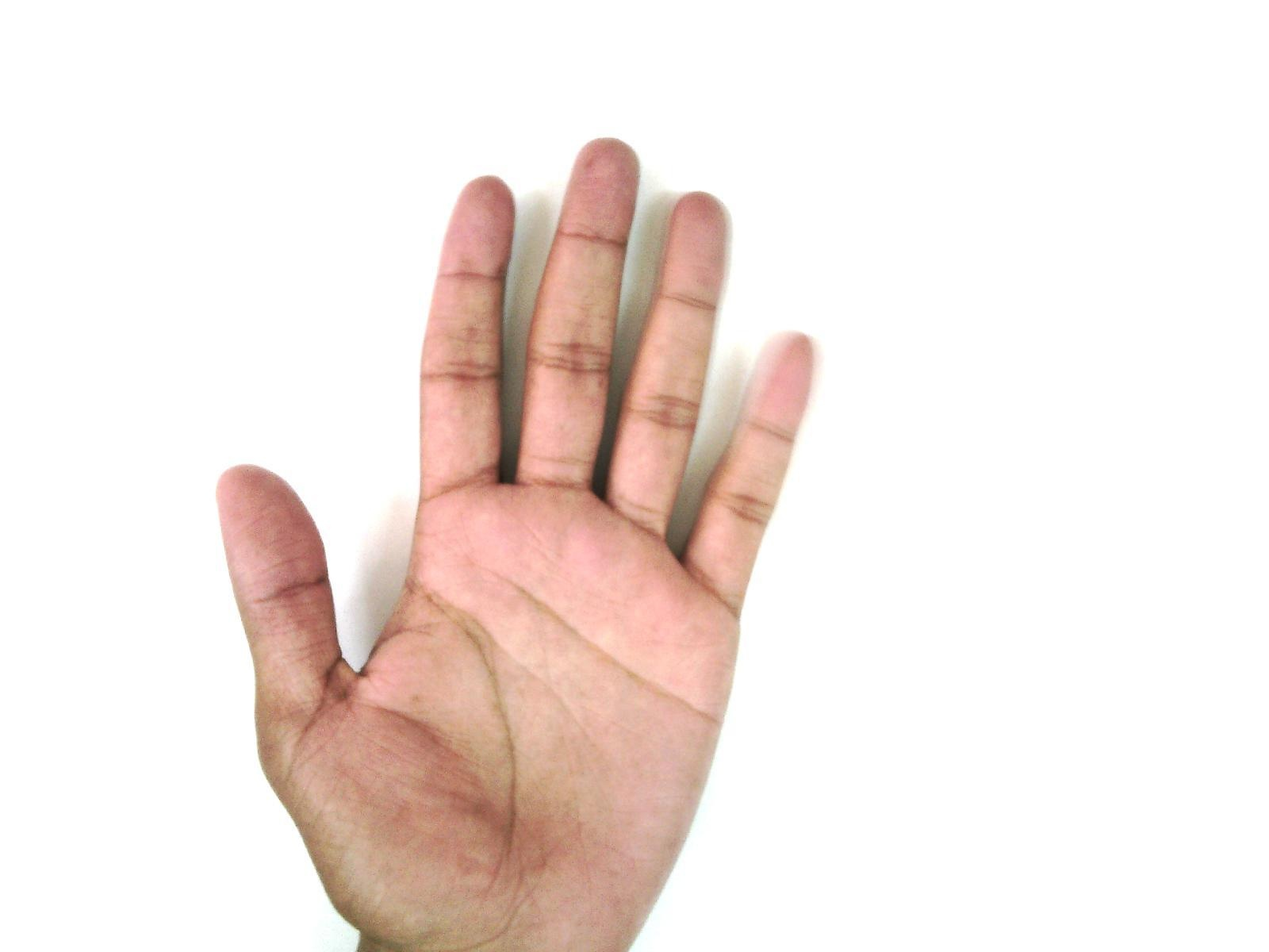open_palm: (213, 136, 820, 951)
